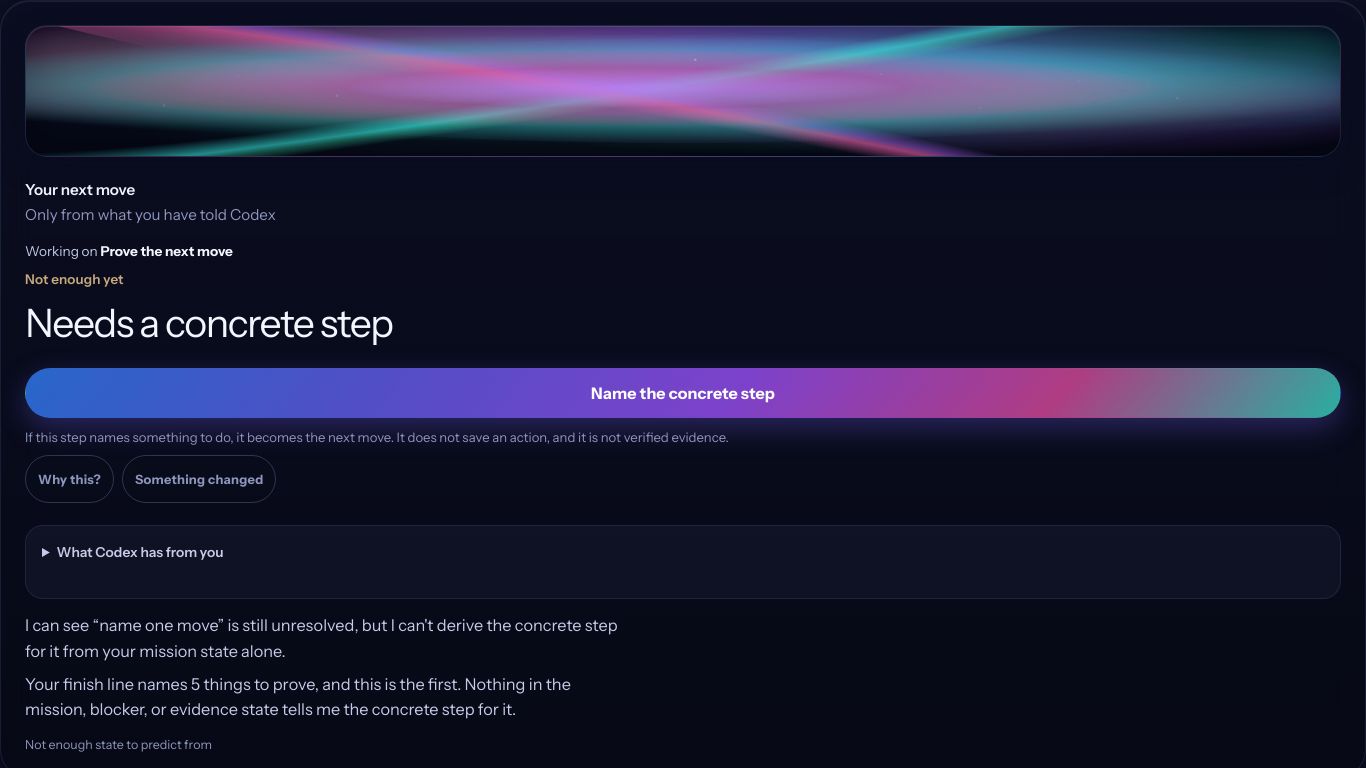
Test: StrategicDelta › does not announce a chosen recommendation when none exists, and lists the clauses the engine targets
What coordinates should you click on to do the following:
click the button "Why this?"
I would click on:
 (70, 479)
Its box is x1=25 y1=455 x2=114 y2=503.
(page scrolled)
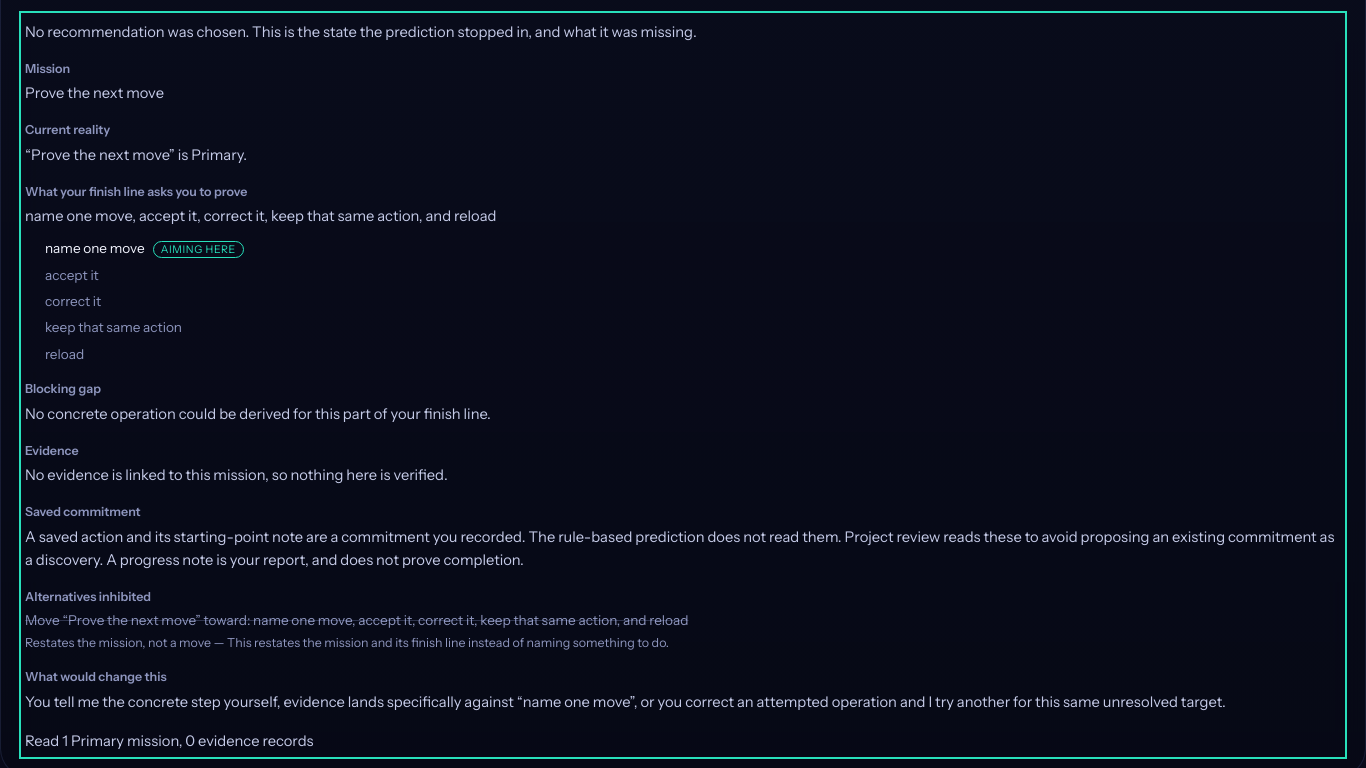
Expected: the text "No recommendation was chosen" is shown, x1=25 y1=23 x2=697 y2=41
Expected: the 1st list item shows "name one move", x1=45 y1=240 x2=145 y2=256
Expected: the text "does not read them" is shown, x1=25 y1=528 x2=1334 y2=569
